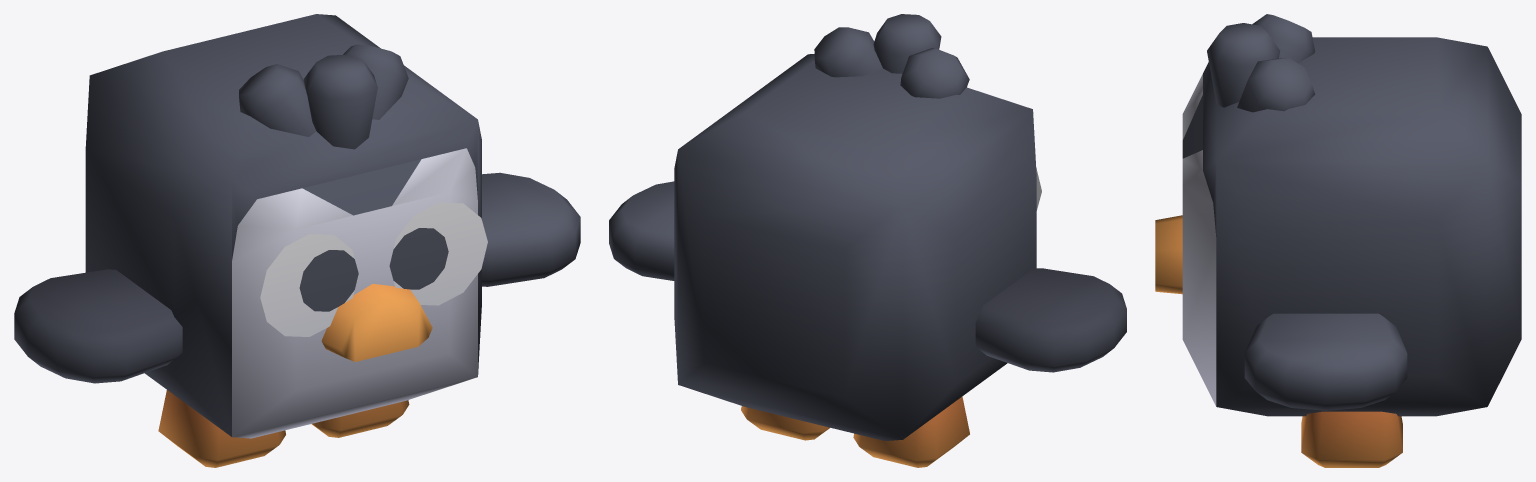
Rendered from bishop.glb.
3 views of the same model, side by side, from view 1: azimuth 30°, elevation 25°; view 2: azimuth 150°, elevation 25°; view 3: azimuth 270°, elevation 25° (orthographic). The views are drawn at different scales.
Visible parts, largest first — view 1: body, wing-right, wing-left, leg-front-right, leg-front-left; view 2: body, wing-right, wing-left, leg-front-right, leg-front-left; view 3: body, wing-left, leg-front-left.
Part boxes in pixels (x1,y1,x2,y2): body: (85, 14, 487, 438); wing-right: (14, 269, 182, 383); wing-left: (481, 172, 580, 286); leg-front-right: (158, 390, 285, 467); leg-front-left: (311, 400, 409, 437); body: (674, 14, 1041, 440); wing-right: (975, 268, 1126, 372); wing-left: (609, 181, 674, 280); leg-front-right: (853, 396, 969, 467); leg-front-left: (741, 406, 829, 440); body: (1155, 14, 1521, 416); wing-left: (1244, 313, 1407, 410); leg-front-left: (1301, 411, 1402, 467).
Size of the model in its own units: 2.19 by 1.59 by 1.35.
Materials: 1 (1 with a texture image).
